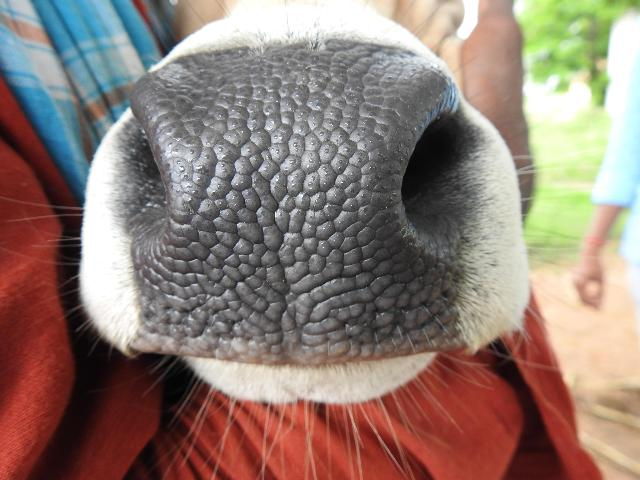Muzzle: (164, 68, 400, 348)
